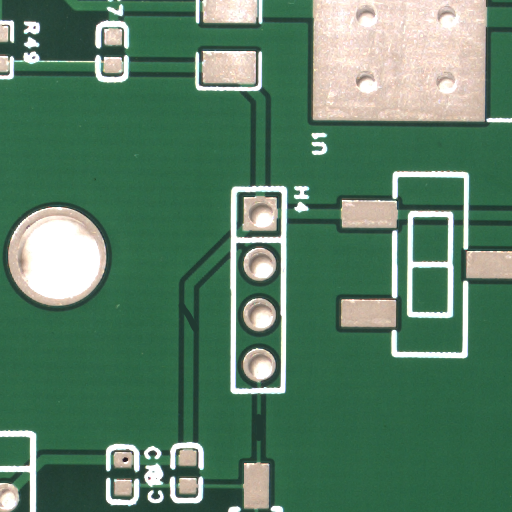Open_circuit: (189, 318, 200, 343), (256, 427, 264, 454)
